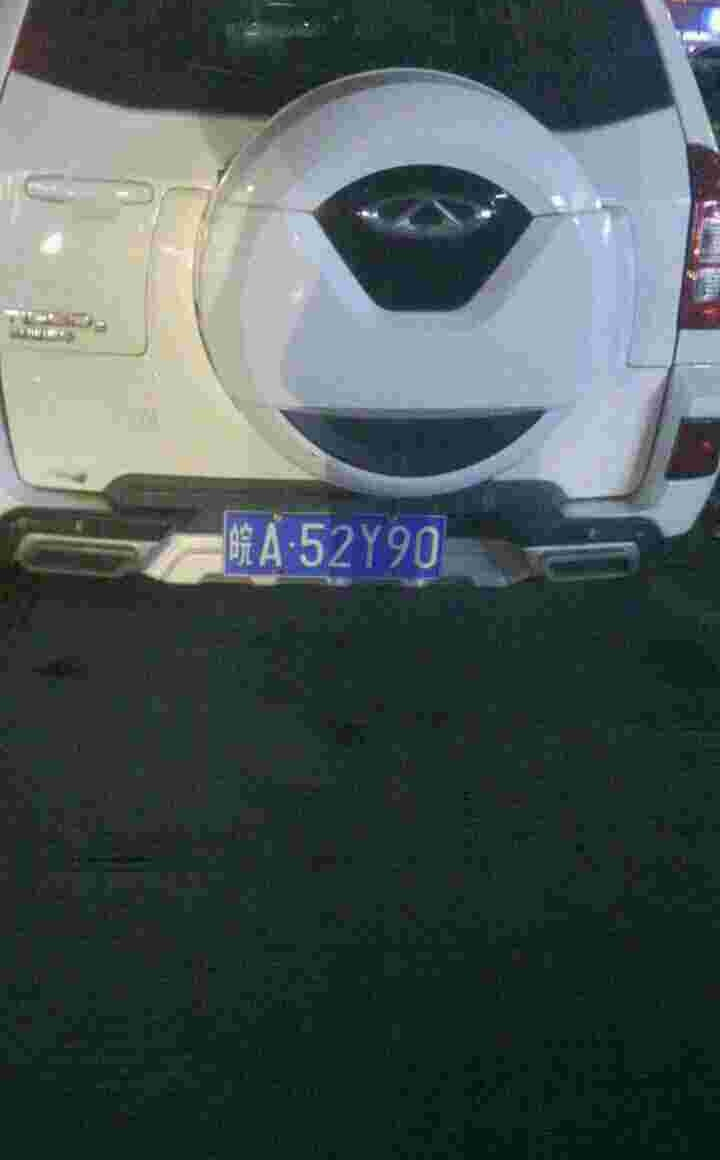license_plate: (224, 505, 442, 589)
